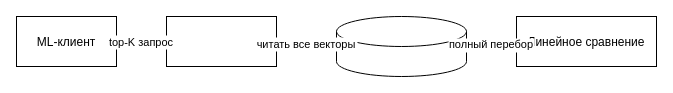
This 673x93 diagram has some shape labels left out. Each missing label, with the centre of its shape:
Vector API: the point at 221,41
Одна vector DB: the point at 401,46
